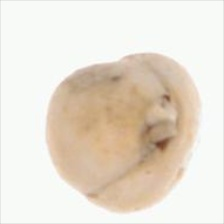L3: (142, 92, 183, 155)
L4: (45, 52, 201, 214)
